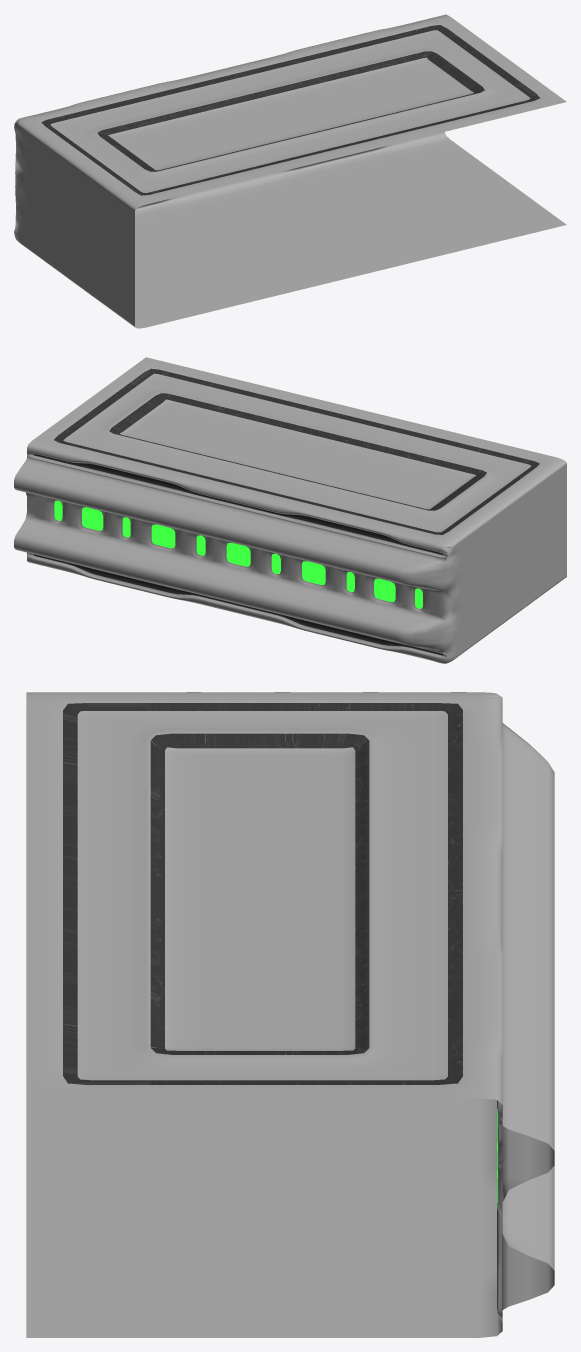
The model's file is FloorTile2.fbx.
The picture shows the model from 3 angles, top to bottom: view 1: azimuth 30°, elevation 25°; view 2: azimuth 150°, elevation 25°; view 3: azimuth 270°, elevation 25°; orthographic projection. The views are drawn at different scales.
Visible parts, largest first — view 1: Box004; view 2: Box004; view 3: Box004.
Boxes of the visible parts, x1,y1,x2,y2 form: Box004: [14, 14, 566, 328]; Box004: [14, 357, 566, 663]; Box004: [26, 692, 554, 1337].
Bounding box in the file's own units: 1519 × 413 × 826.
